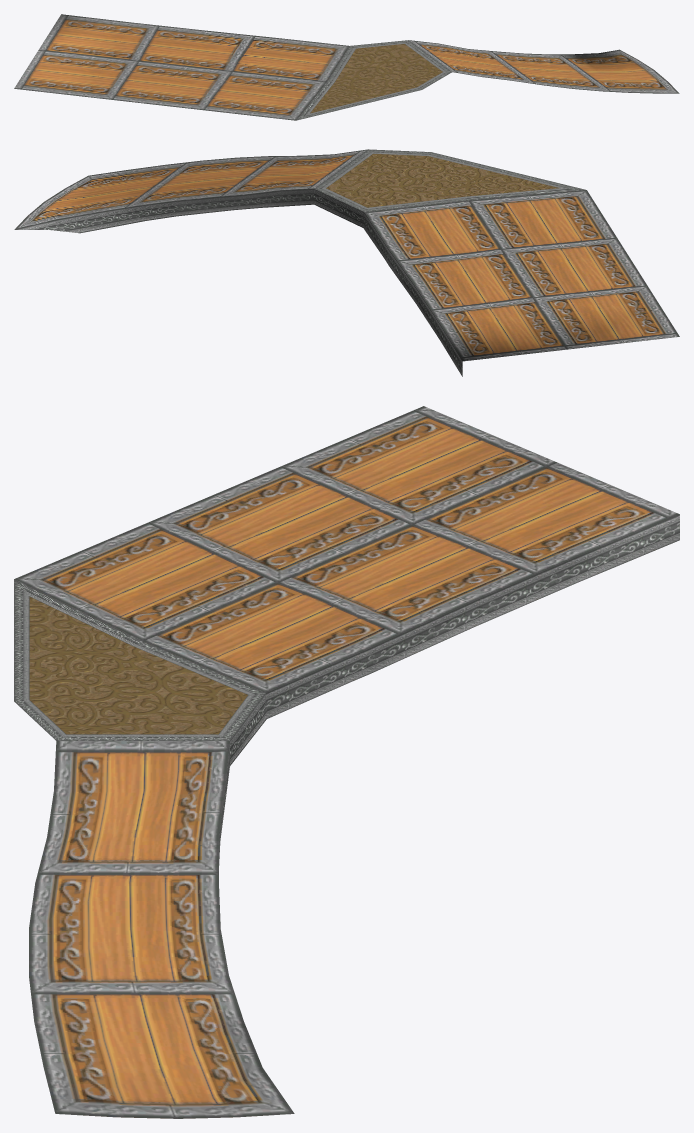
The model's file is EKH_BARRELROOM_PS_JA1_JA_LINE10.fbx.
3 views of the same model, one above another, from view 1: azimuth 30°, elevation 25°; view 2: azimuth 150°, elevation 25°; view 3: azimuth 270°, elevation 25° (orthographic). The views are drawn at different scales.
Parts seen in each view (by area): view 1: EKH_BARRELROOM_PS_JA1_JA_LINE10; view 2: EKH_BARRELROOM_PS_JA1_JA_LINE10; view 3: EKH_BARRELROOM_PS_JA1_JA_LINE10.
Part boxes in pixels (<box>): EKH_BARRELROOM_PS_JA1_JA_LINE10: <box>14,14,679,120</box>; EKH_BARRELROOM_PS_JA1_JA_LINE10: <box>14,149,679,376</box>; EKH_BARRELROOM_PS_JA1_JA_LINE10: <box>14,406,679,1118</box>.
Size of the model in its own units: 152647 by 19412 by 76697.
3 materials, 3 textured.
